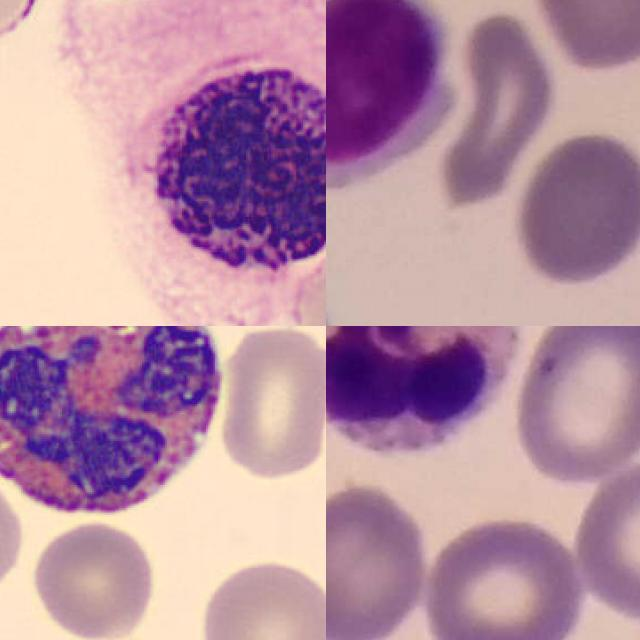Basophil: (109, 45, 326, 289)
Eosinophil: (0, 326, 236, 527)
Lymphocyte: (326, 0, 456, 197)
Neutrophil: (326, 326, 518, 450)
RBC: (213, 326, 326, 481), (26, 516, 159, 640), (195, 555, 326, 640)
